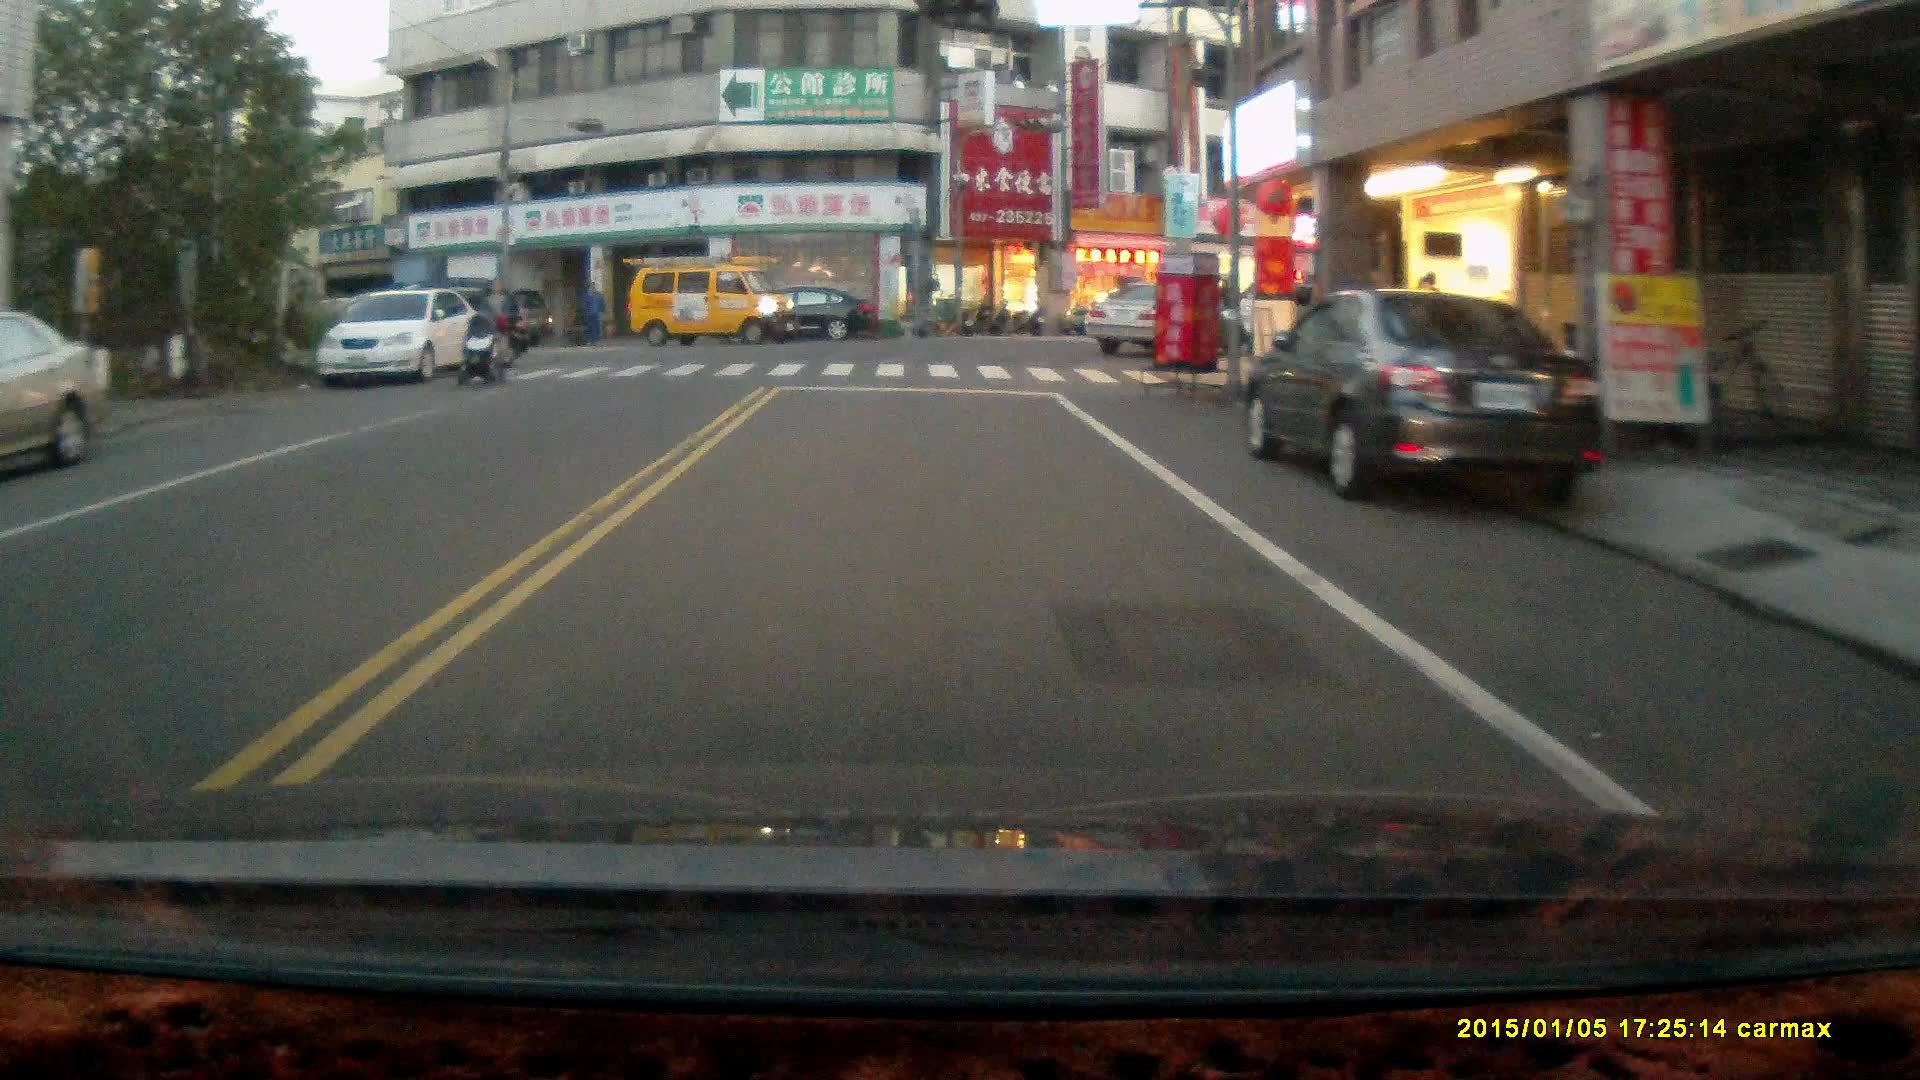pedestrian: (479, 276, 509, 366), (578, 278, 604, 345)
rider: (453, 312, 511, 391)
vehicle: (1243, 289, 1608, 502), (1, 302, 109, 473), (317, 289, 486, 388), (628, 257, 800, 350), (1081, 279, 1236, 355), (738, 286, 882, 349)
